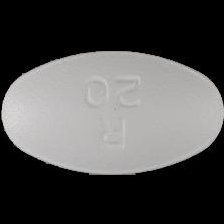61786-735: (0, 0, 224, 224)
